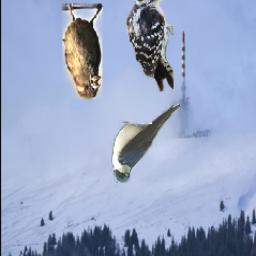Sparrow: (62, 5, 103, 100)
Swallow: (111, 104, 180, 184)
Woodpecker: (124, 0, 174, 92)
